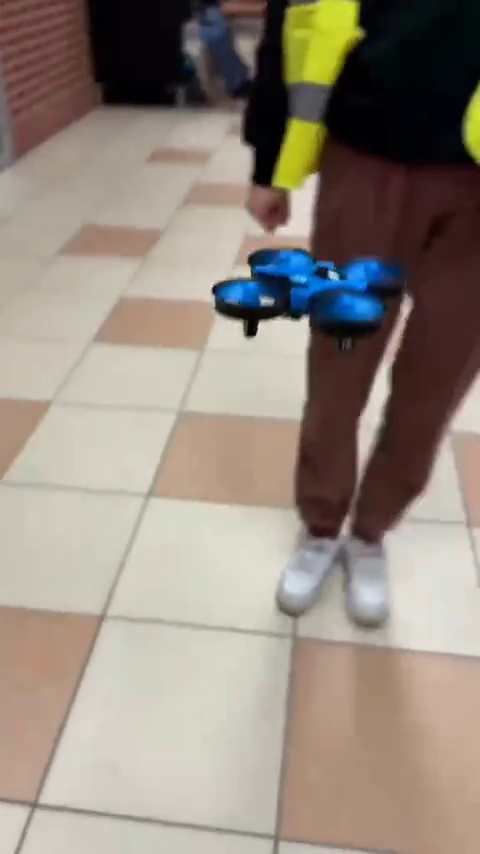drone: (212, 246, 405, 345)
